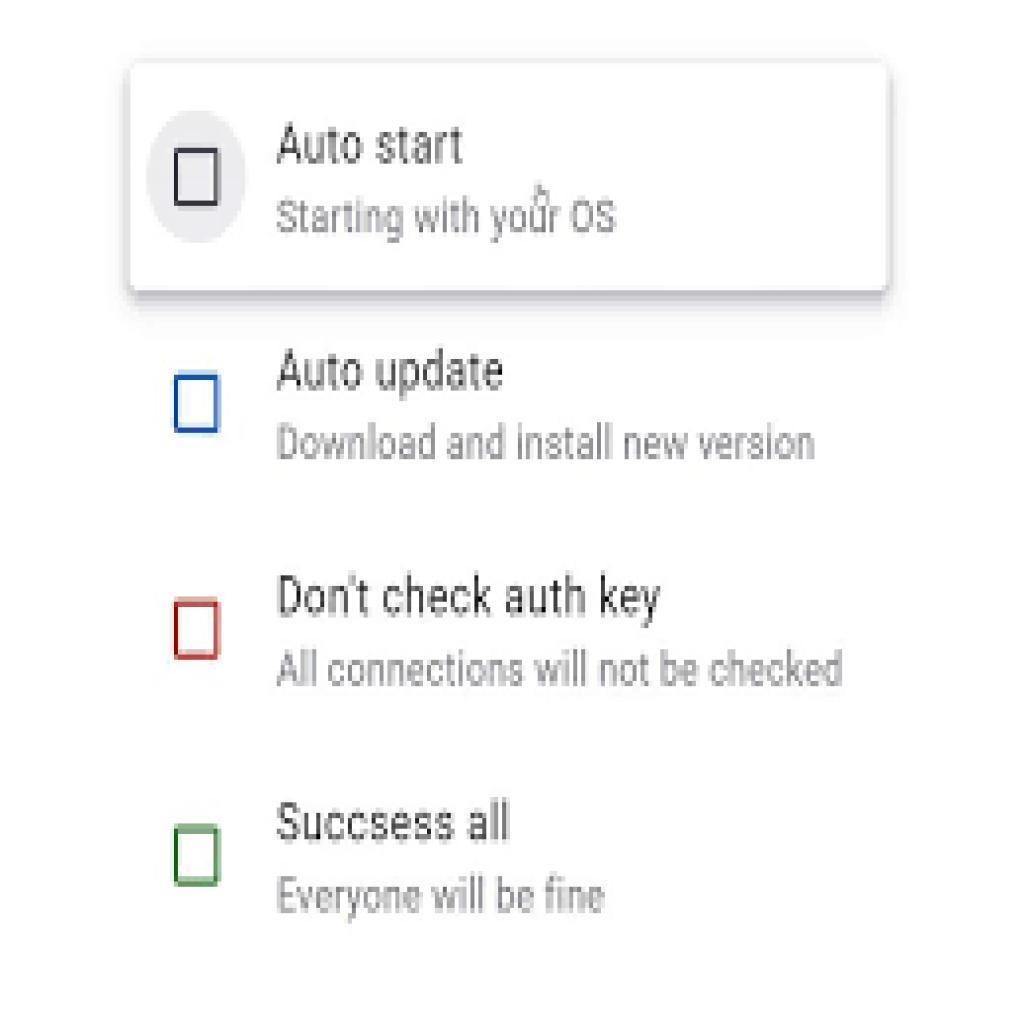checkbox: (176, 826, 225, 888), (175, 149, 222, 209), (175, 372, 222, 428), (176, 597, 221, 655)
label: (271, 565, 659, 631), (274, 795, 521, 854), (277, 111, 473, 180), (277, 347, 512, 398)
